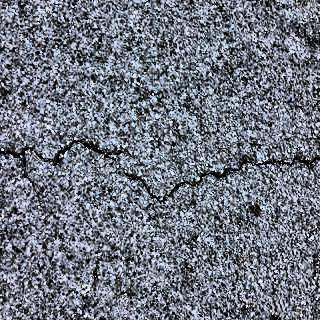crack: (0, 140, 320, 218)
